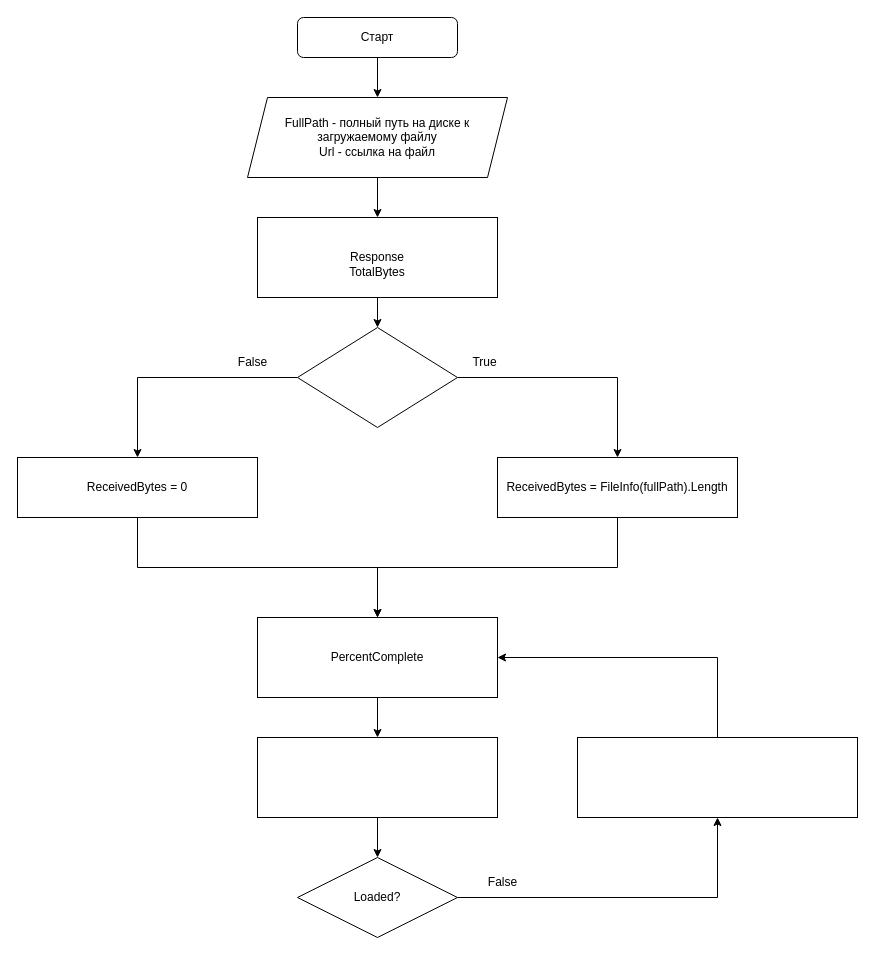
Some shapes in this 875 by 955 pixel diagram are drawn without their labels. The shapes that lost their labels are listed below. From the top down, each one's box as (x1, y1, x2, y2) in pixels, then its label:
(296, 326, 458, 428): File.Exits()
(256, 736, 498, 818): DownloadAsync
(576, 736, 858, 818): ReceivedBytes++
